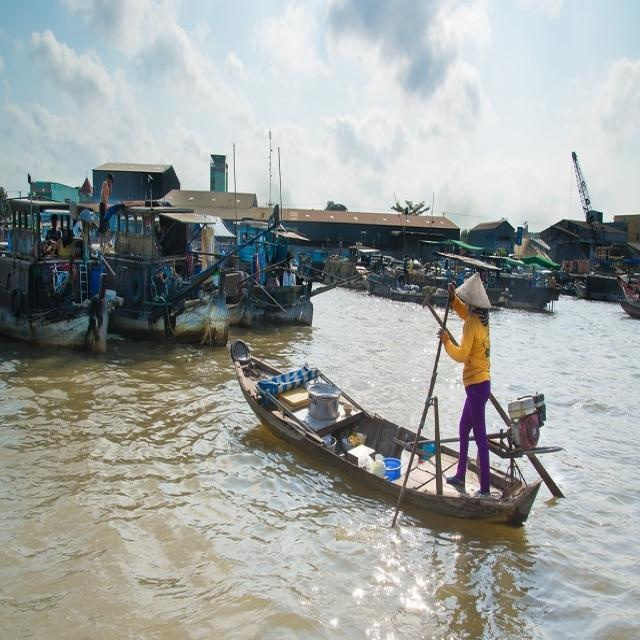boat: (218, 339, 540, 530), (0, 283, 115, 356), (236, 259, 313, 332)
